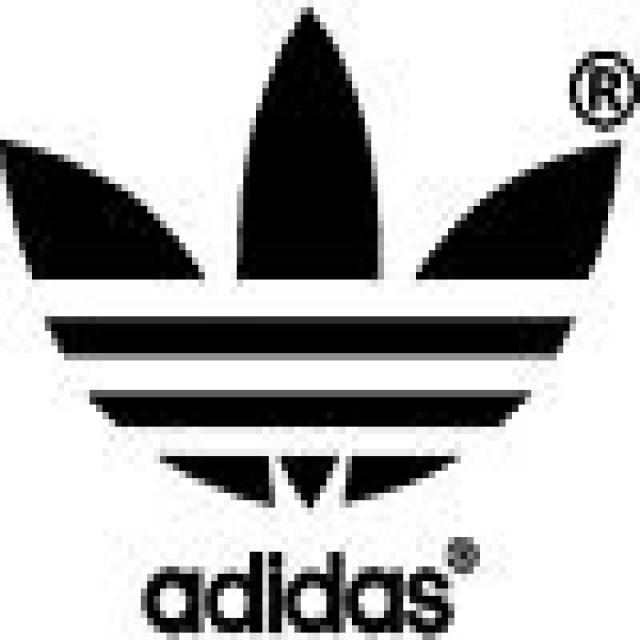adidas: (8, 8, 635, 634)
